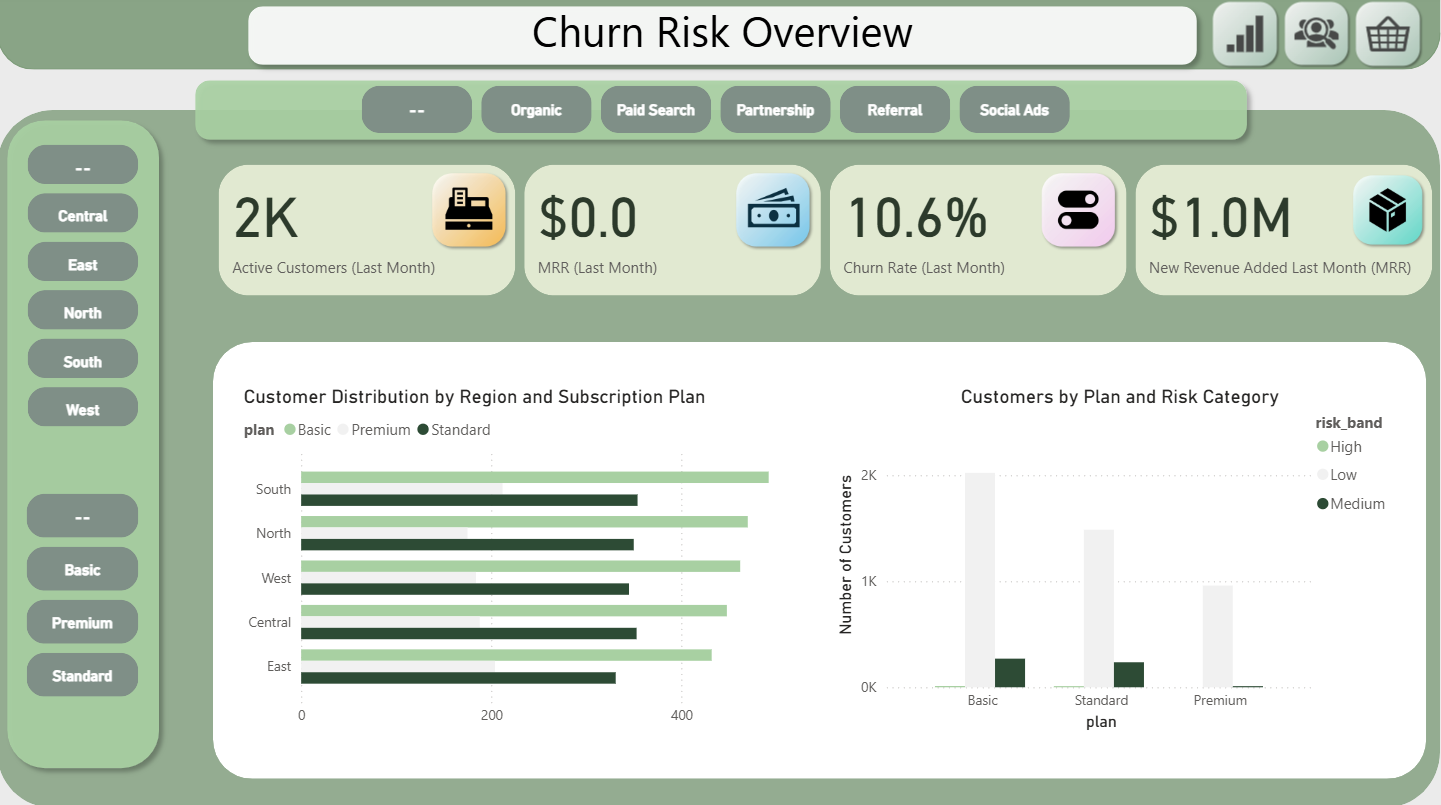

The dashboard page shown, as its layout file describes it:
{"tool":"powerbi","page":{"name":"Churn Risk Overview","canvas":[1280,720],"ordinal":1},"visuals":[{"type":"shape","box":[0,101.1,1279.5,618.9],"z":0},{"type":"shape","box":[0,0,1280,65.3],"z":1000},{"type":"cardVisual","fields":{"Data":["subscriptions.Active Customers (Last Month)","transactions.MRR (Last Month)","subscriptions.Churn Rate (Last Month)","transactions.New MRR (Last Month)"]},"box":[191.4,144.5,1088.6,126.1],"z":3000},{"type":"actionButton","box":[1072.9,0,70,70],"z":4000},{"type":"actionButton","box":[1136.7,0,69.2,70],"z":5000},{"type":"actionButton","box":[1199.7,0,70,70],"z":6000},{"type":"image","box":[648.7,150.9,81,81],"z":7000},{"type":"image","box":[915.6,150.9,88.3,81],"z":8000},{"type":"shape","box":[191.4,306.4,1075.7,387.4],"z":9000},{"type":"clusteredColumnChart","title":"Customers by Plan and Risk Category","fields":{"Y":["CountNonNull(customers.customer_id)"],"Category":["customers.plan"],"Series":["risk_scored_customers.risk_band"]},"box":[739.8,345.1,512.6,311],"z":10000},{"type":"clusteredBarChart","title":"Customer Distribution by Region and Subscription Plan","fields":{"Series":["customers.plan"],"Category":["customers.region"],"Y":["CountNonNull(customers.customer_id)"]},"box":[213.5,345.1,492.3,311],"z":11000},{"type":"image","box":[379.1,150.9,81,81],"z":12000},{"type":"image","box":[1196.3,150.9,77.3,81],"z":13000},{"type":"shape","box":[166.6,65.3,950.6,70.9],"z":14000},{"type":"advancedSlicerVisual","fields":{"Values":["risk_scored_customers.acquisition_channel"]},"box":[318.4,74.5,641.4,52.5],"z":15000},{"type":"shape","box":[0,101.2,152.8,592.6],"z":16000},{"type":"advancedSlicerVisual","fields":{"Values":["customers.region"]},"box":[22.2,126.8,108.2,261.6],"z":17000},{"type":"advancedSlicerVisual","fields":{"Values":["customers.plan"]},"box":[21.3,436.3,109.1,191.5],"z":18000},{"type":"shape","box":[213.7,0,859.2,70],"z":19500},{"type":"textbox","box":[253.6,0,779.4,65.6],"z":20000}]}

Visuals, with their boxes in screenshot pixels (x1, y1, x2, y2), scaled from the page's 1280x720 canvas onto the 1441x805 screenshot:
shape: x1=0, y1=113, x2=1440, y2=804
shape: x1=0, y1=0, x2=1440, y2=73
cardVisual - subscriptions.Active Customers (Last Month) x transactions.MRR (Last Month): x1=215, y1=162, x2=1440, y2=303
actionButton: x1=1208, y1=0, x2=1287, y2=78
actionButton: x1=1280, y1=0, x2=1358, y2=78
actionButton: x1=1351, y1=0, x2=1429, y2=78
image: x1=730, y1=169, x2=821, y2=259
image: x1=1031, y1=169, x2=1130, y2=259
shape: x1=215, y1=343, x2=1426, y2=776
"Customers by Plan and Risk Category" clusteredColumnChart: x1=833, y1=386, x2=1410, y2=734
"Customer Distribution by Region and Subscription Plan" clusteredBarChart: x1=240, y1=386, x2=795, y2=734
image: x1=427, y1=169, x2=518, y2=259
image: x1=1347, y1=169, x2=1434, y2=259
shape: x1=188, y1=73, x2=1258, y2=152
advancedSlicerVisual - risk_scored_customers.acquisition_channel: x1=358, y1=83, x2=1081, y2=142
shape: x1=0, y1=113, x2=172, y2=776
advancedSlicerVisual - customers.region: x1=25, y1=142, x2=147, y2=434
advancedSlicerVisual - customers.plan: x1=24, y1=488, x2=147, y2=702
shape: x1=241, y1=0, x2=1208, y2=78
textbox: x1=285, y1=0, x2=1163, y2=73
